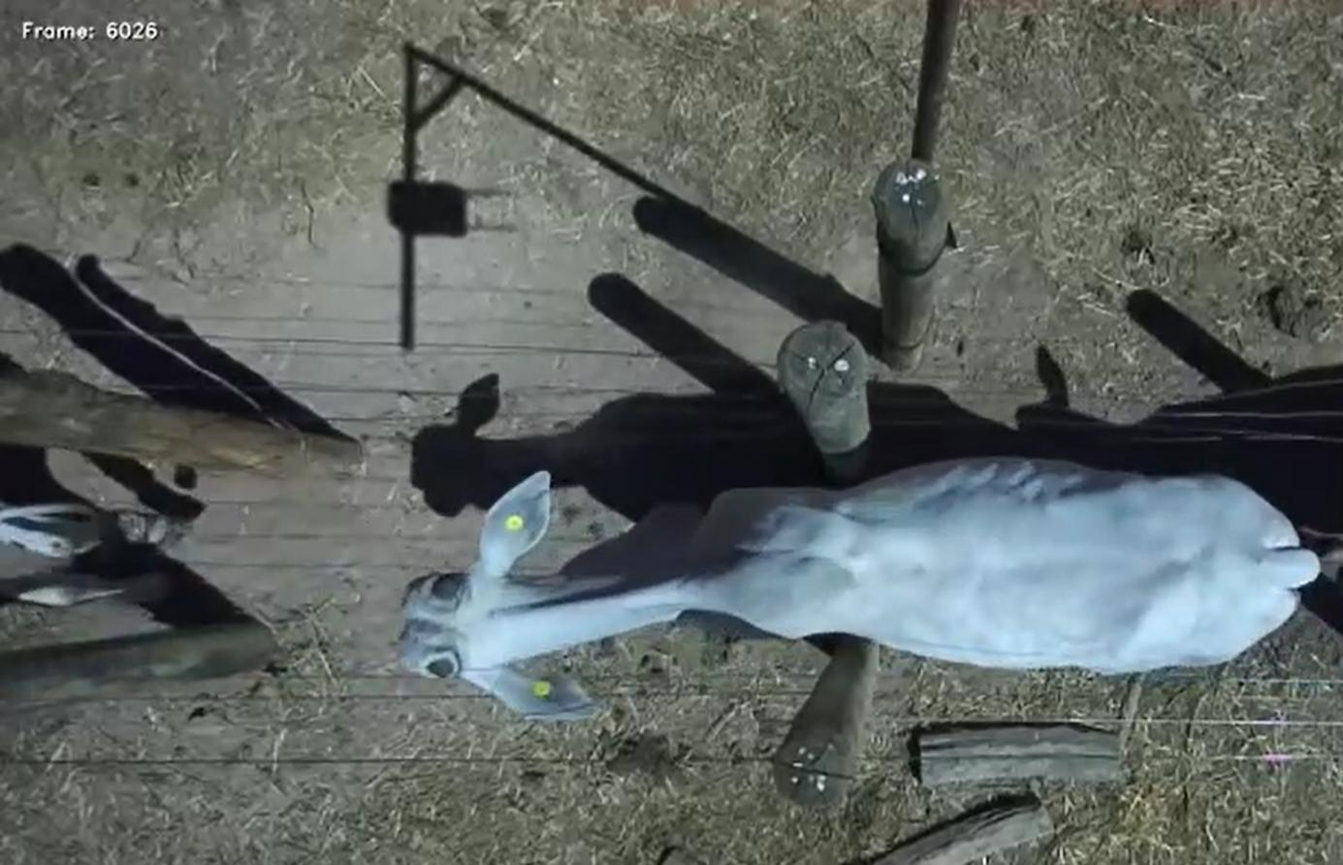cattle: (388, 443, 1330, 730)
